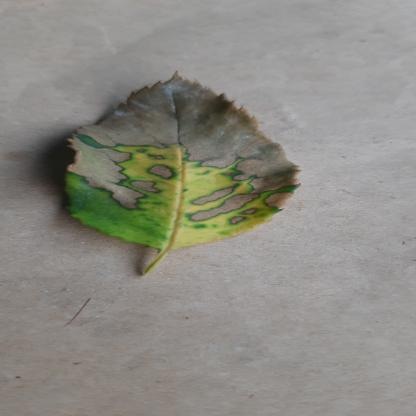powdery-mildew: (58, 70, 307, 250)
